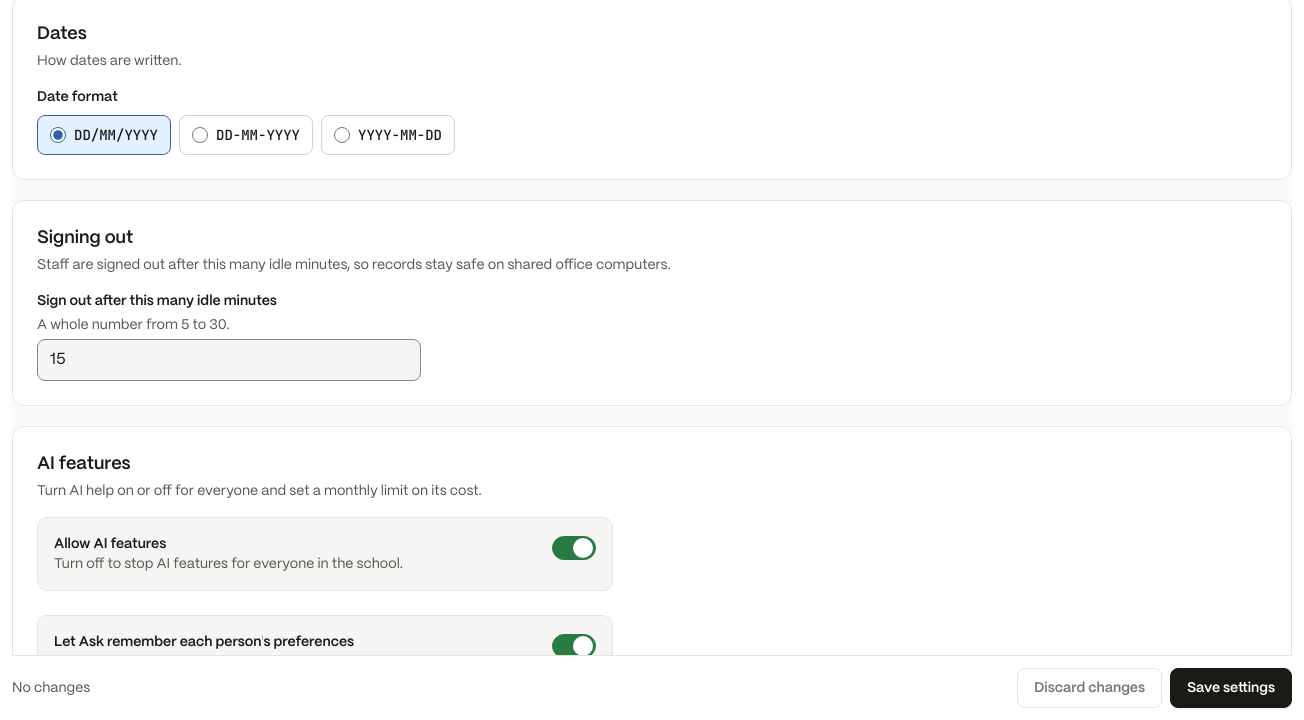
Test: school settings (FR-TEN-012) › the save bar says when changes are not saved, and Discard puts back the loaded values
(page scrolled)
Expected: the text "No changes" is shown, [12,678,90,698]
Expected: the button "Discard changes" is disabled, [1017,668,1162,708]
Replace the text in the field labelled "Sign out after this many idle minutes" with "20" at point(229, 360), box [37,339,421,381]
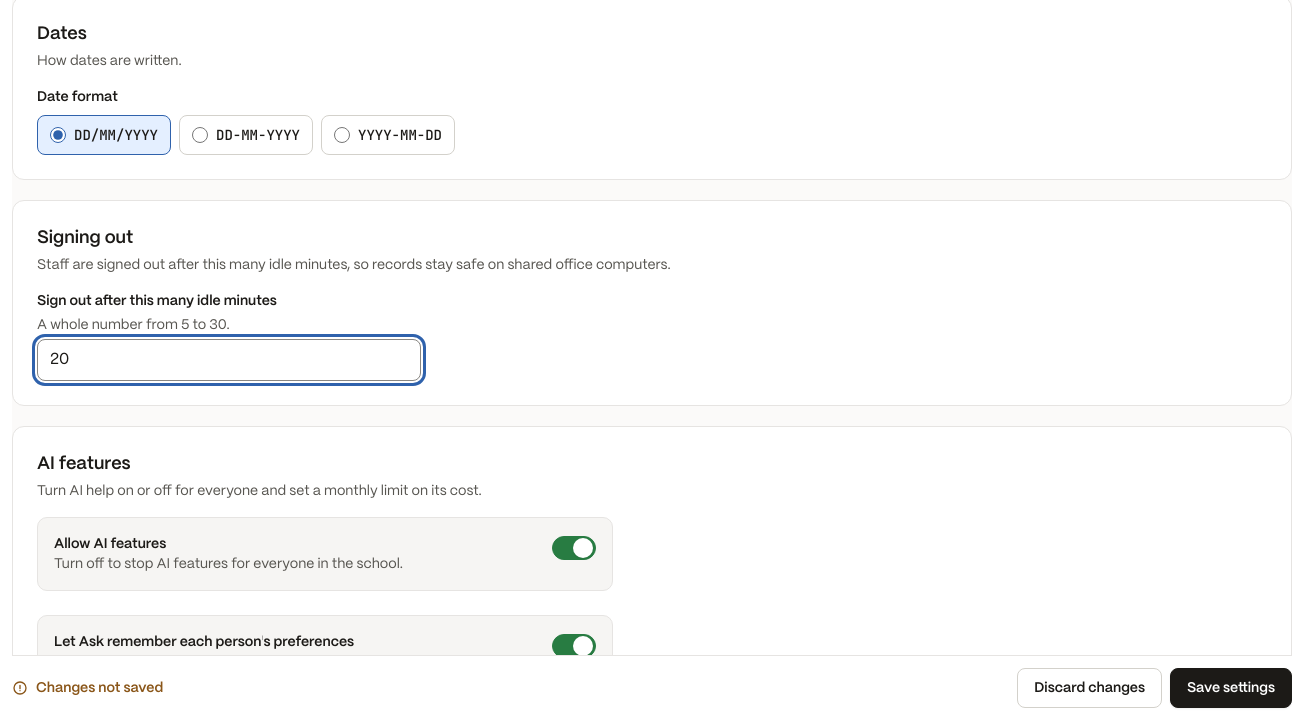
Result: the text "Changes not saved" is shown at [36,678,163,698]
Click the button "Discard changes" at point(1090, 688), box [1017,668,1162,708]
(page scrolled)
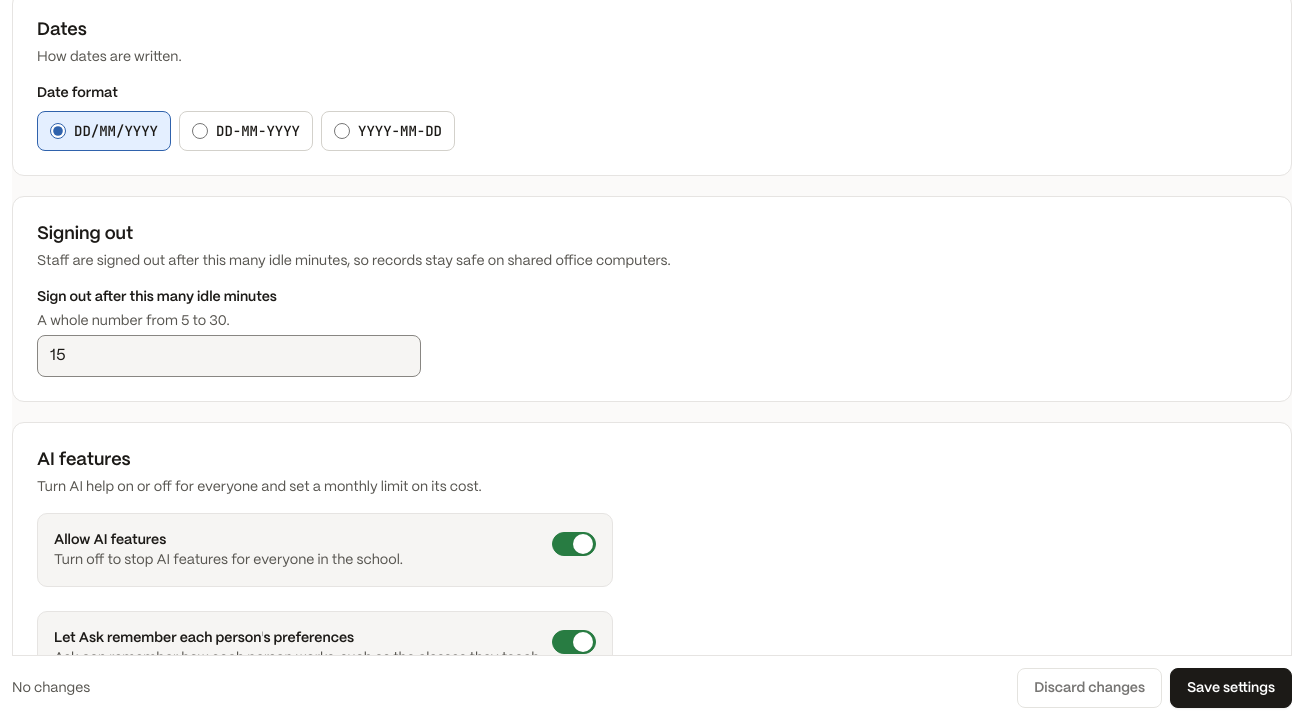
Result: the field labelled "Sign out after this many idle minutes" holds "15" at [37,335,421,377]
Result: the text "No changes" is shown at [12,678,90,698]
// A switch counts as a change too.
Click the switch named "Allow AI features" in the row of "Allow AI features" at point(574, 544), box [552,532,596,556]
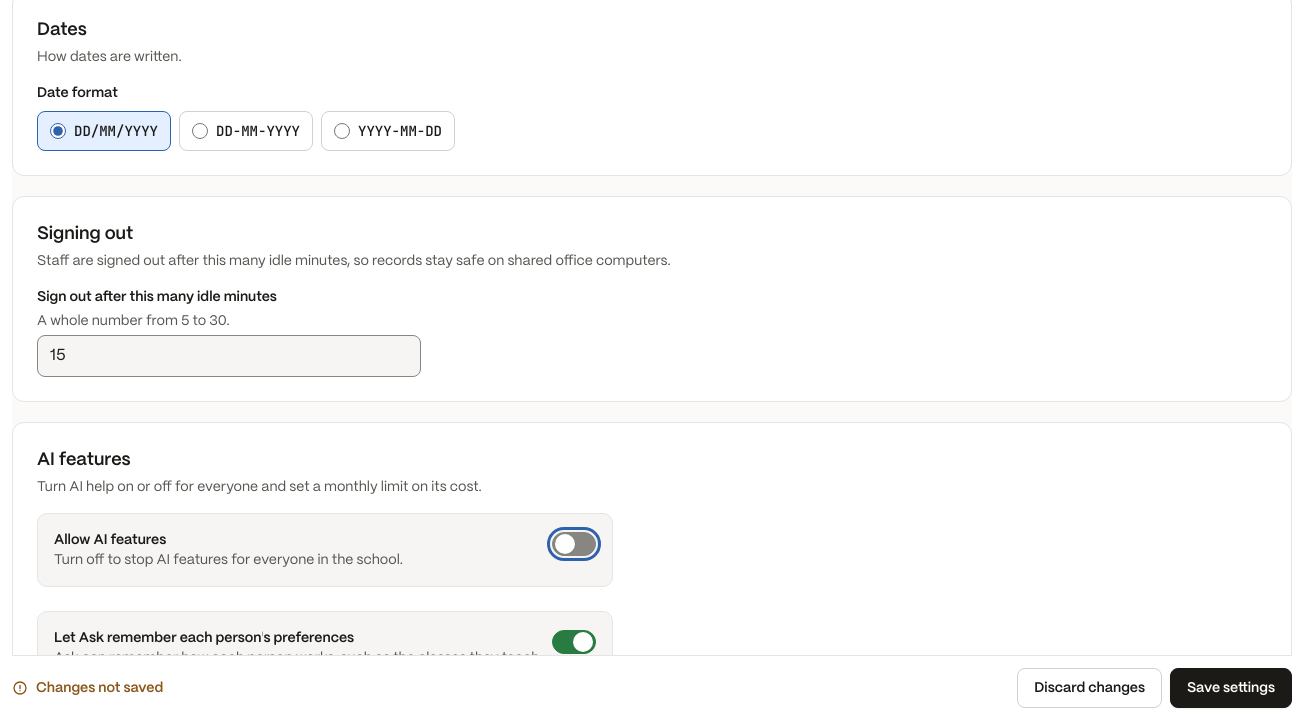
Result: the text "Changes not saved" is shown at [36,678,163,698]
